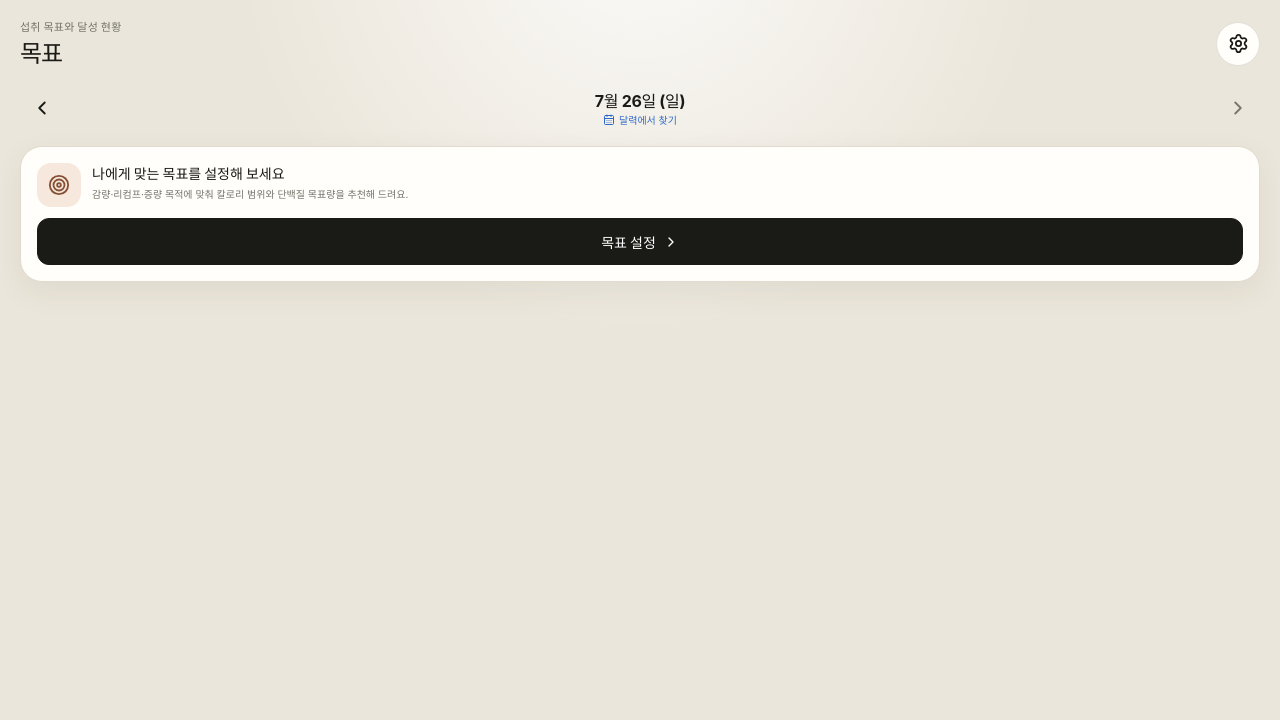
달력에서 미래 날짜를 선택할 수 없다
Click the button with aria-label "7월 26일 (일), 달력 열기": [640, 108] box [64, 85, 1216, 130]
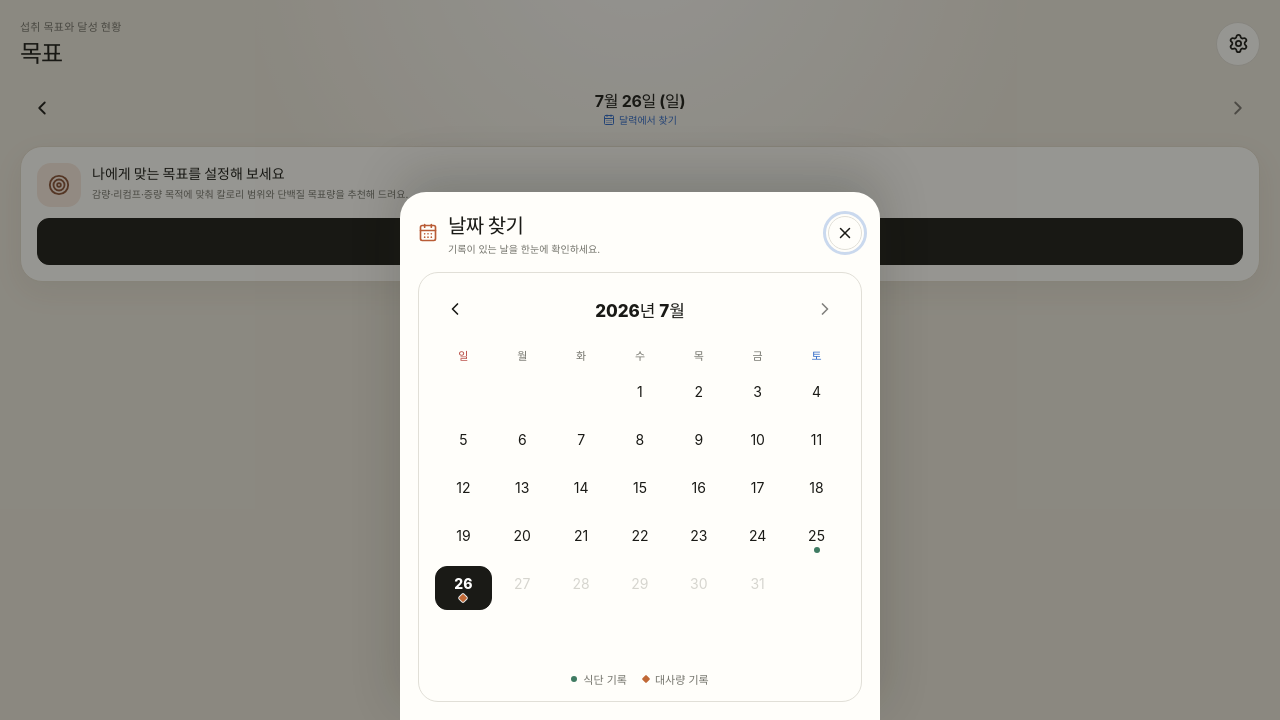
Expected: the button "27" is disabled, [494, 566, 551, 610]
